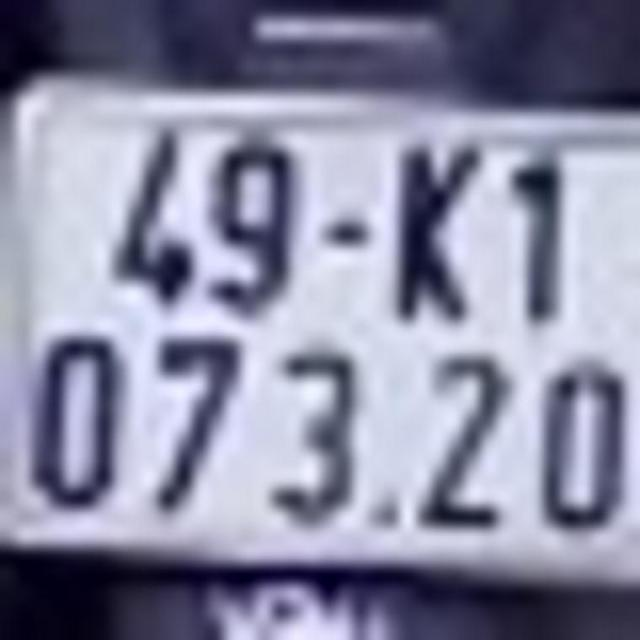0: (29, 321, 126, 514), (534, 342, 628, 528), (108, 124, 188, 300)
1: (508, 148, 566, 324)
2: (424, 338, 507, 536)
3: (280, 346, 356, 525)
7: (150, 332, 246, 520)
9: (202, 131, 299, 319)
K: (384, 132, 484, 330)
